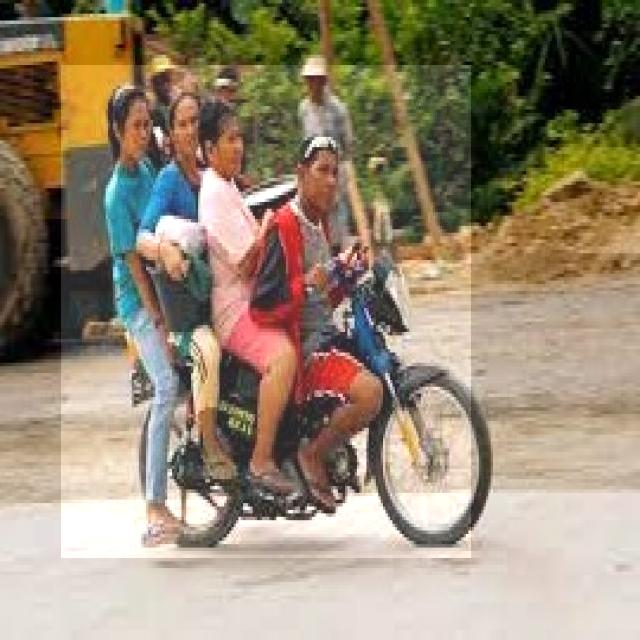Overloading: (61, 65, 472, 558)
